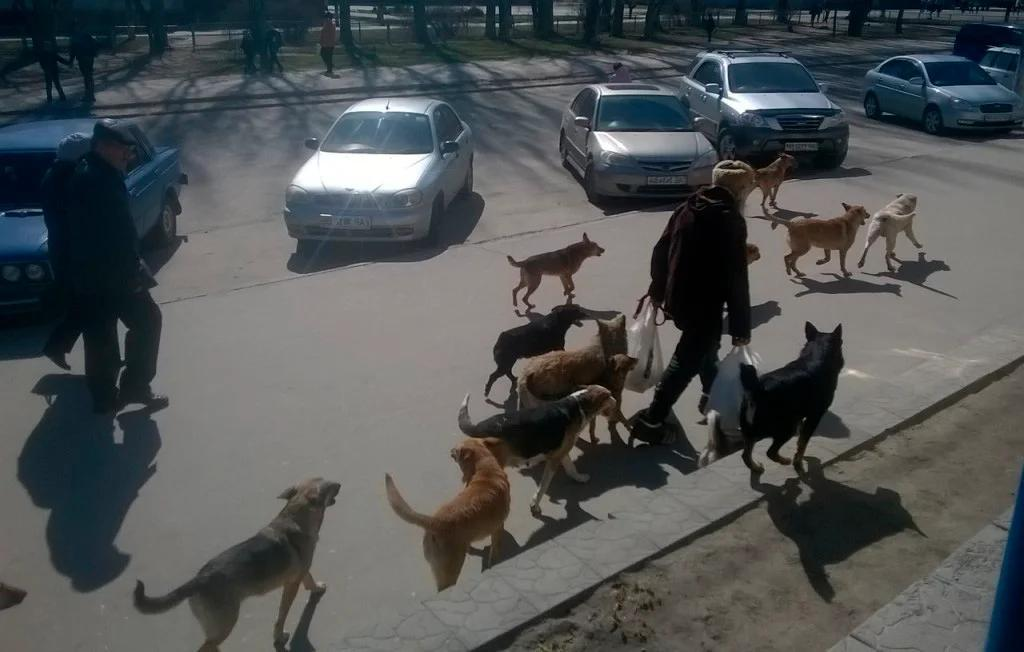normal_dogs: (129, 472, 351, 652), (382, 423, 521, 597), (464, 378, 629, 523), (729, 315, 862, 490), (514, 310, 640, 407), (499, 224, 610, 309), (485, 302, 585, 395), (774, 194, 872, 284), (857, 188, 932, 277), (751, 147, 804, 208)
